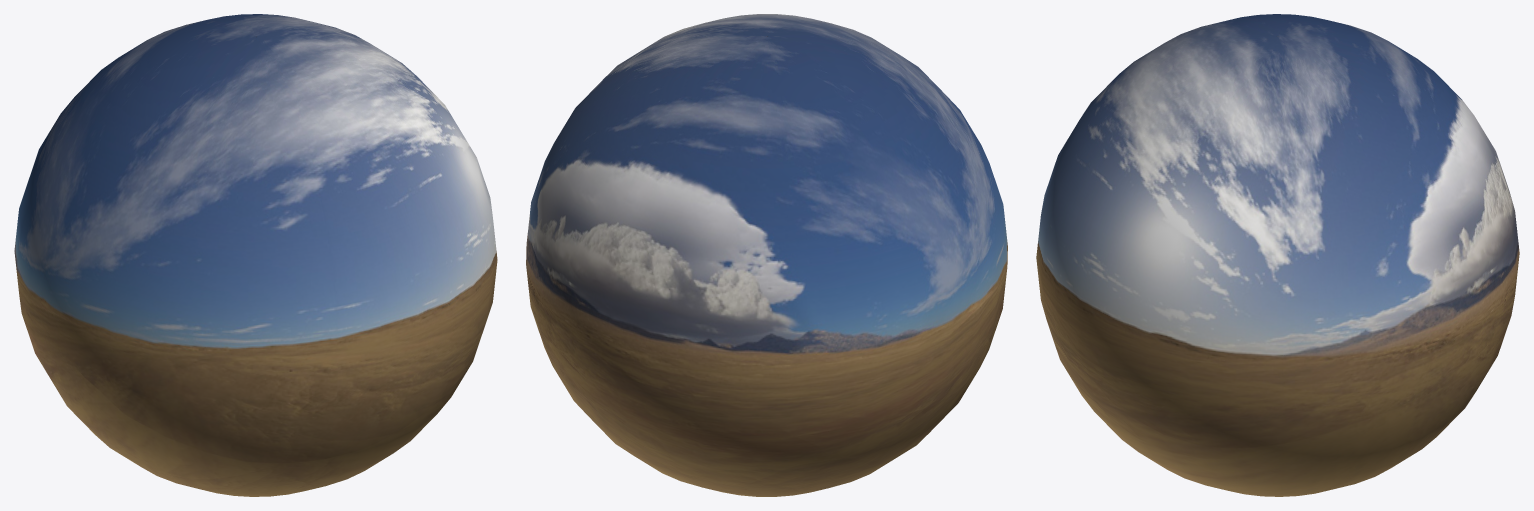
File: temple.glb
3 renders of one model, left to right at view 1: azimuth 30°, elevation 25°; view 2: azimuth 150°, elevation 25°; view 3: azimuth 270°, elevation 25°, orthographic.
Visible parts, largest first — view 1: Object_3; view 2: Object_3; view 3: Object_3.
Part boxes in pixels (box(x1,y1,x2,y2)): Object_3: box(14, 14, 497, 496); Object_3: box(526, 14, 1007, 496); Object_3: box(1036, 14, 1519, 496).
Bounding box in the file's own units: 14.36 × 13.82 × 14.36.
Materials: 9 (9 with a texture image).
